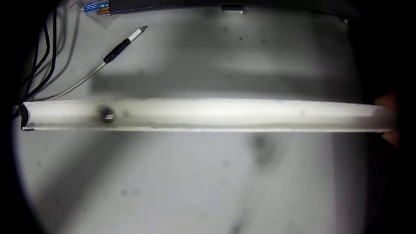gangzhu: (95, 104, 120, 124)
